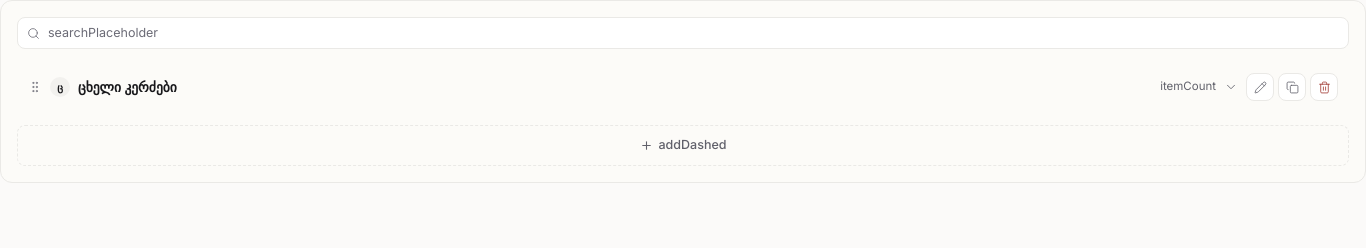
Test: CategoriesList › search › renders the no-results card when the query matches nothing
The width and height of the screenshot is (1366, 248).
Type "zzz no match" into the search field with test id "categories-search" at (693, 33), box [48,24,1338,42]
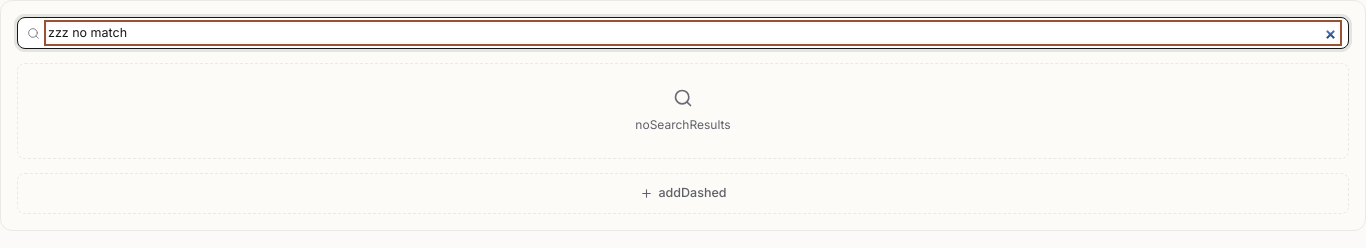
Result: the list with test id "categories-list-rows" is gone
Result: the element with test id "categories-no-results" is shown at [17,63,1349,159]
